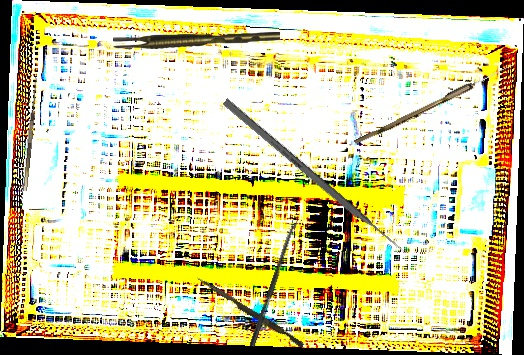Hook Surgical: (17, 76, 39, 192)
Pusher: (221, 98, 409, 257), (193, 276, 307, 348)
Surgical Spoon: (353, 60, 516, 148), (249, 218, 299, 348)
Tissue Forceps: (113, 32, 280, 49)
